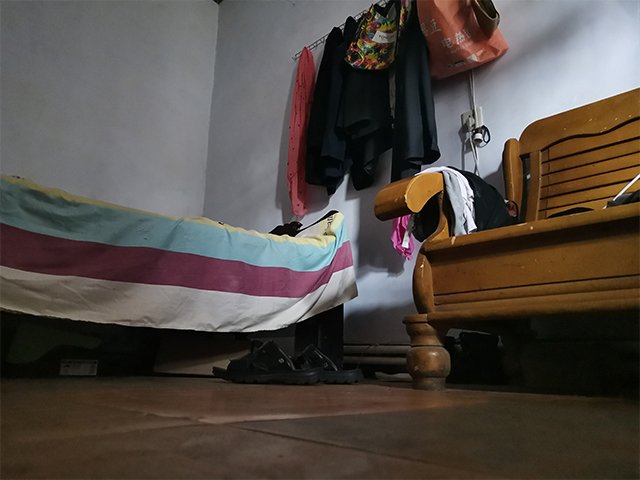bed: (1, 171, 361, 377)
slippers: (210, 339, 366, 385)
stool: (372, 86, 640, 392)
